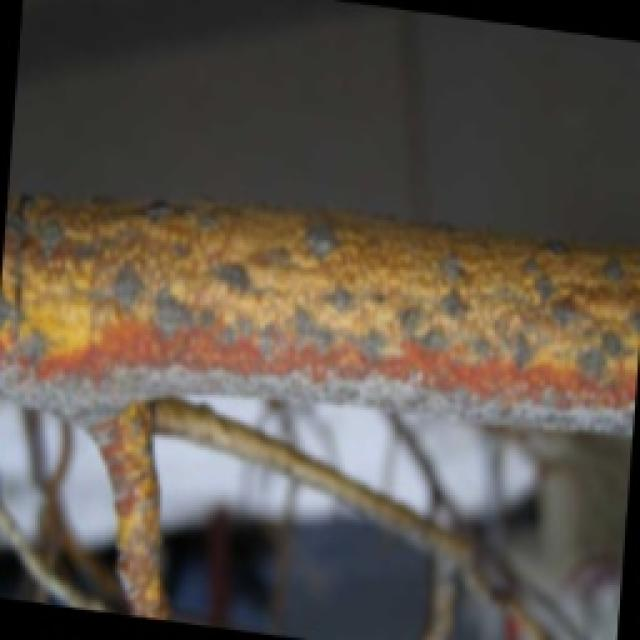Golden_canker: (2, 160, 640, 502)
